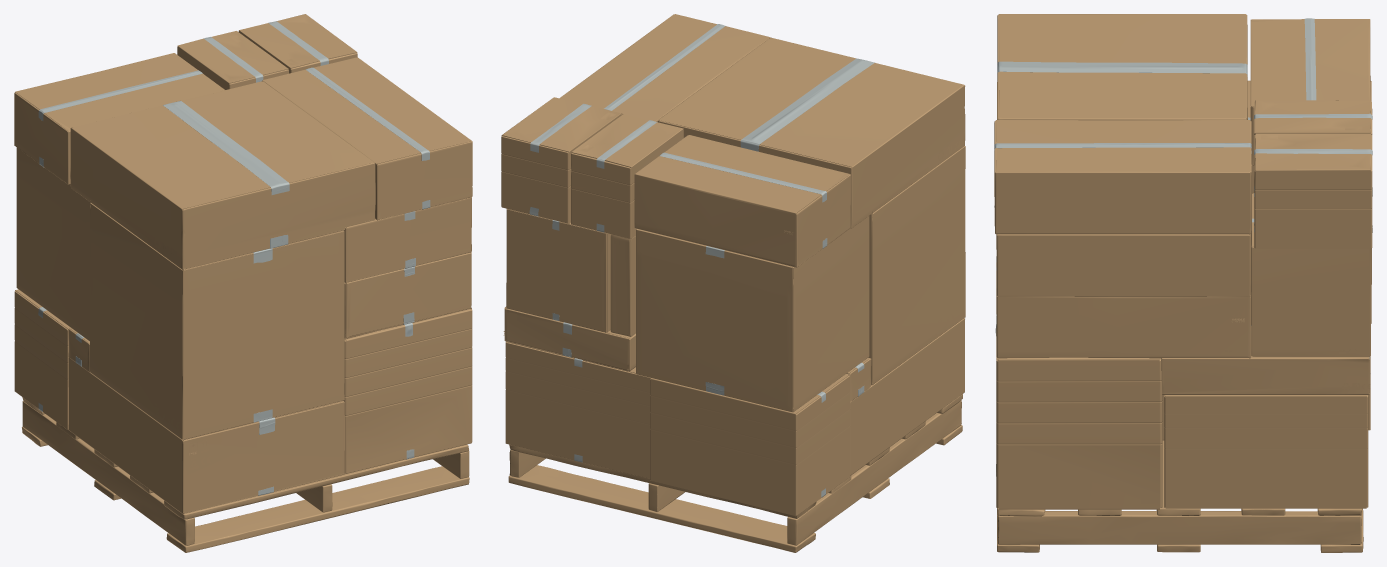
Rendered from pallet_assembly_a05.glb.
3 views of the same model, side by side, from view 1: azimuth 30°, elevation 25°; view 2: azimuth 150°, elevation 25°; view 3: azimuth 270°, elevation 25° (orthographic). The views are drawn at different scales.
Size of the model in its own units: 0.9205 by 1.04 by 0.9284.
